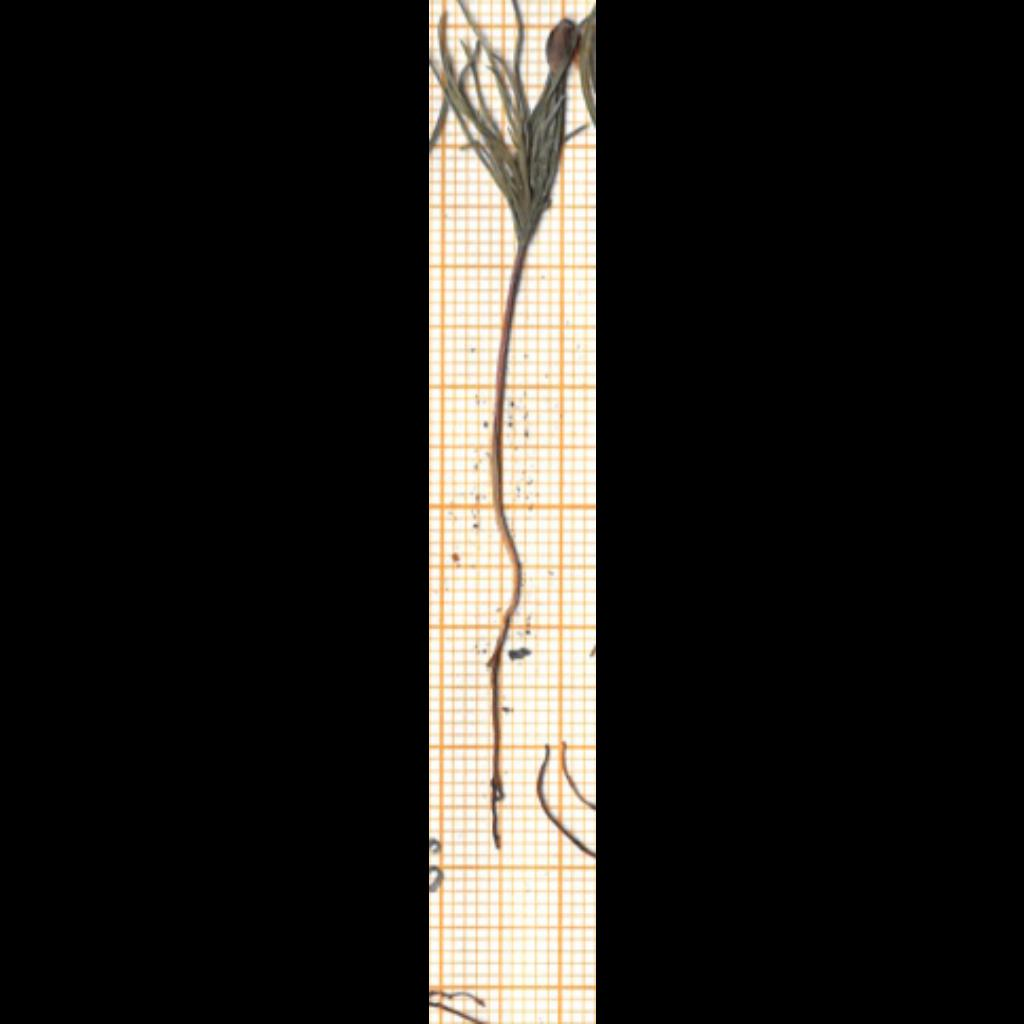flowerPinus: (432, 0, 572, 240)
rootPinus: (491, 653, 502, 849)
stemPinus: (489, 245, 526, 667)
